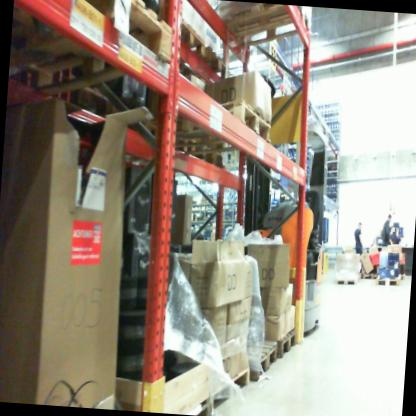forklift: (229, 104, 344, 340)
pallet: (8, 0, 179, 112), (129, 90, 276, 168), (134, 11, 240, 84), (203, 1, 316, 54), (199, 364, 252, 414), (224, 331, 277, 380), (270, 327, 300, 365), (332, 271, 363, 290), (375, 274, 402, 289), (358, 271, 379, 285)
